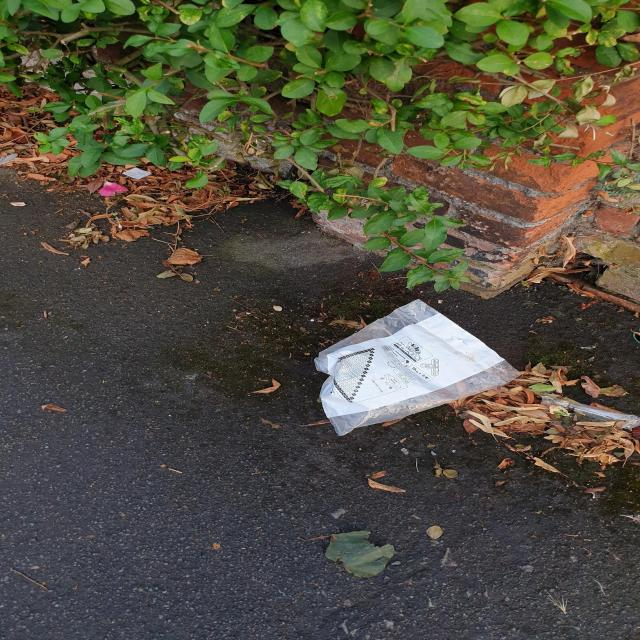litter: (311, 301, 523, 437)
